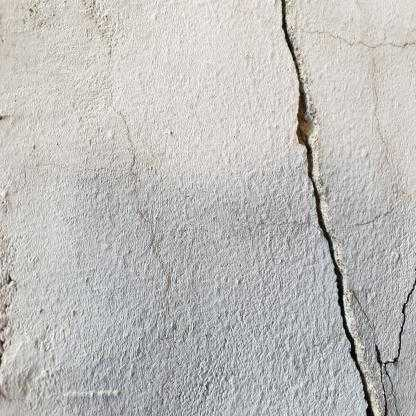crack: (281, 0, 374, 416), (352, 281, 416, 414)
